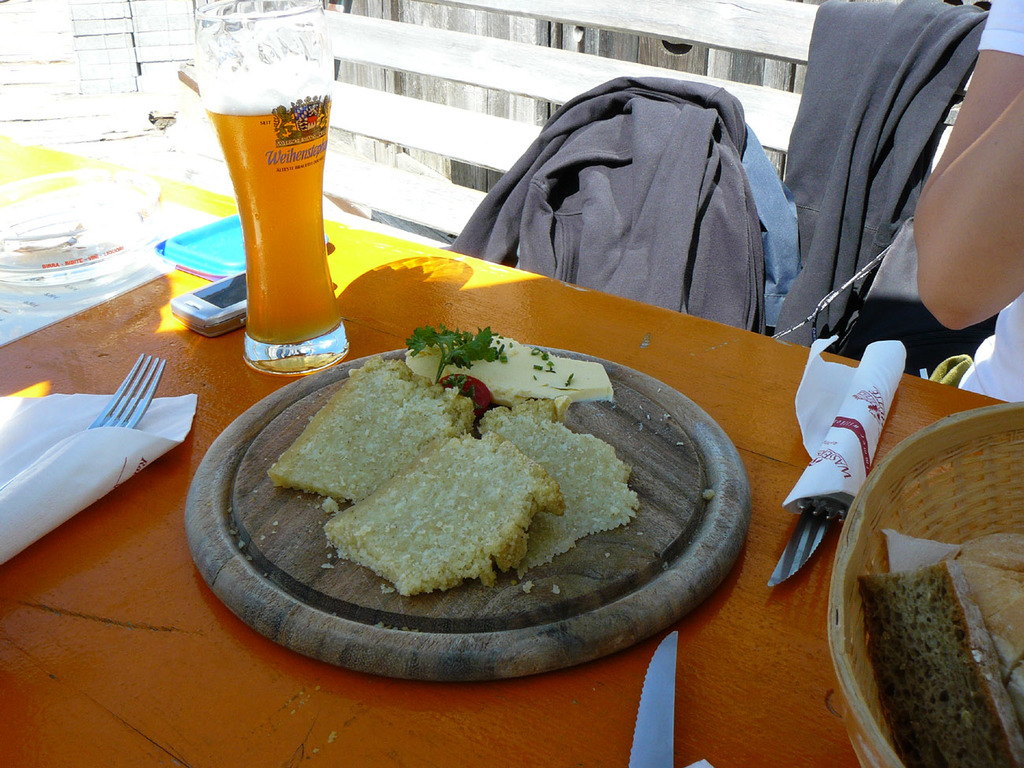Beer: (189, 22, 353, 379)
